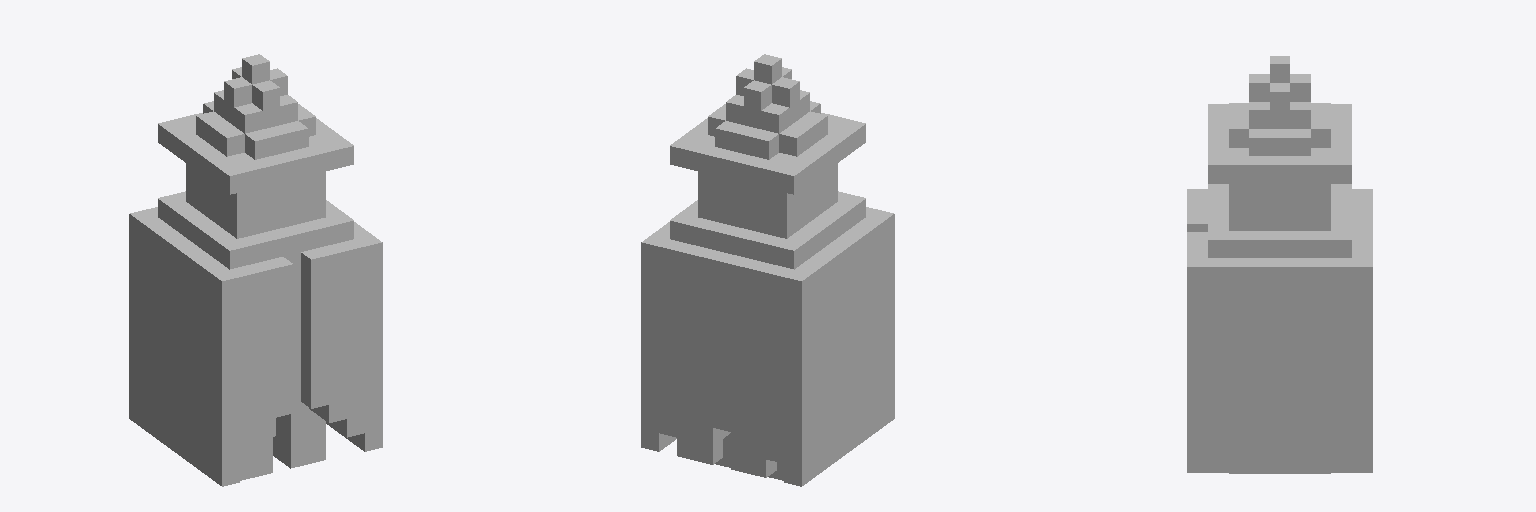
Rendered from FFF.obj.
3 views of the same model, side by side, from view 1: azimuth 30°, elevation 25°; view 2: azimuth 150°, elevation 25°; view 3: azimuth 270°, elevation 25° (orthographic).
Size of the model in its own units: 9 by 21 by 9.